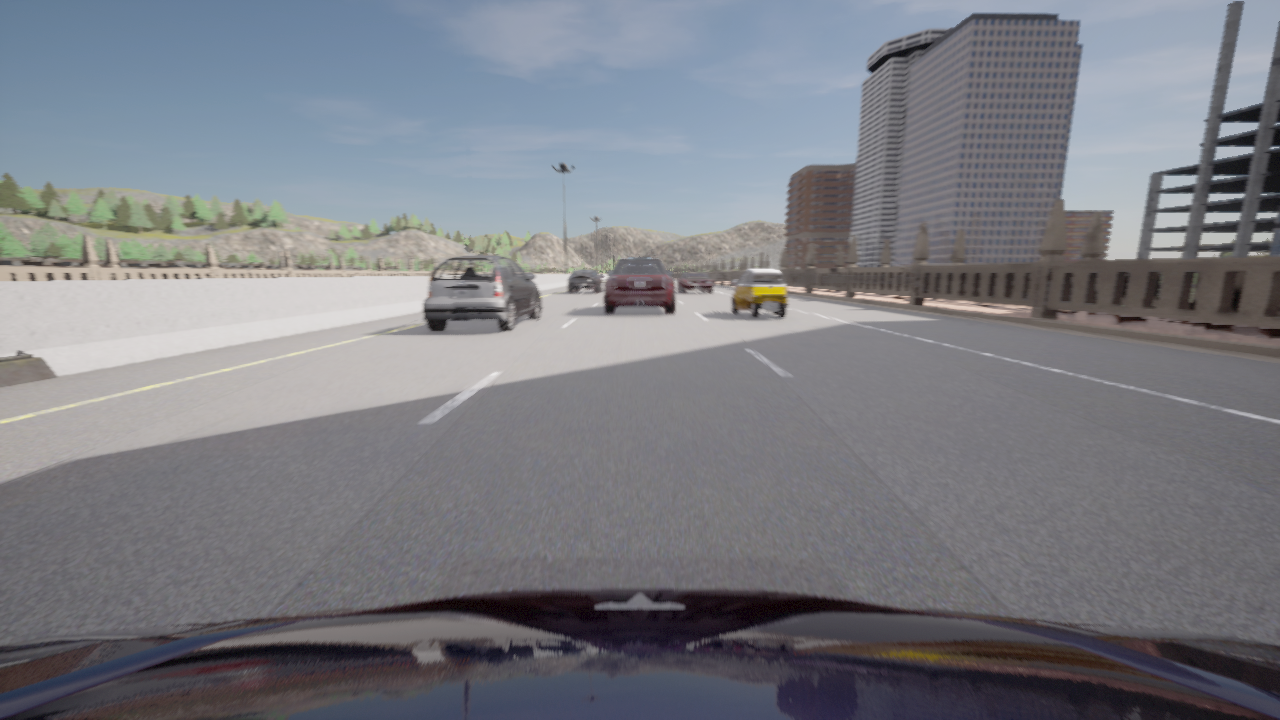cyclist: (0, 588, 1279, 719), (422, 255, 541, 332), (605, 257, 674, 313), (732, 268, 787, 318), (568, 269, 603, 293), (678, 273, 714, 293)
